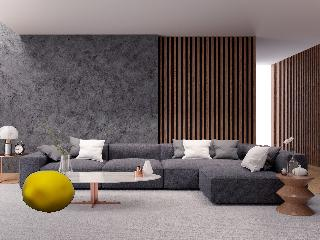lemon: (18, 168, 78, 216)
